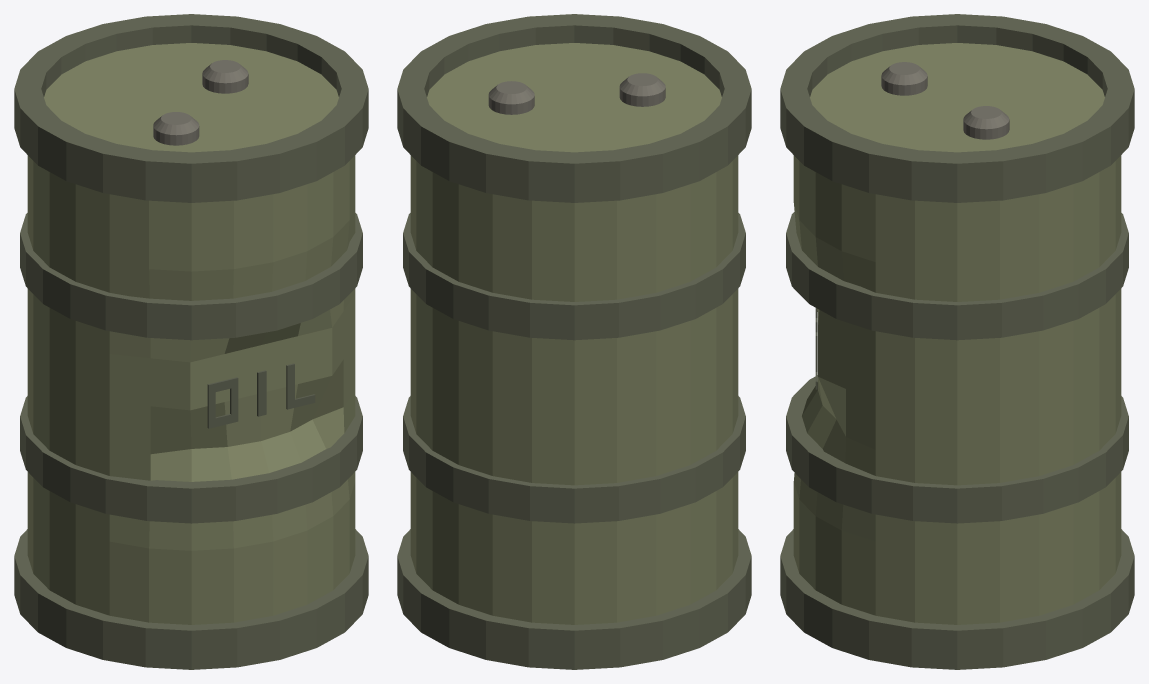
File: oil_drum.glb
3 renders of one model, left to right at view 1: azimuth 30°, elevation 25°; view 2: azimuth 150°, elevation 25°; view 3: azimuth 270°, elevation 25°, orthographic.
Visible parts, largest first — view 1: OilBody, OilTopRim, OilBottomRim, OilBellyBand_0, OilBellyBand_1, OilBung_0, OilBung_1; view 2: OilBody, OilTopRim, OilBottomRim, OilBellyBand_0, OilBellyBand_1, OilBung_1, OilBung_0; view 3: OilBody, OilTopRim, OilBottomRim, OilBellyBand_0, OilBellyBand_1, OilBung_0, OilBung_1.
Boxes of the visible parts, x1,y1,x2,y2 form: OilBody: (27, 43, 355, 624); OilTopRim: (14, 14, 368, 202); OilBottomRim: (14, 529, 368, 669); OilBellyBand_0: (20, 396, 362, 523); OilBellyBand_1: (20, 213, 362, 340); OilBung_0: (202, 60, 248, 93); OilBung_1: (153, 112, 199, 145); OilBody: (410, 43, 738, 624); OilTopRim: (397, 14, 751, 202); OilBottomRim: (397, 529, 751, 669); OilBellyBand_0: (403, 396, 745, 523); OilBellyBand_1: (403, 213, 745, 340); OilBung_1: (619, 73, 665, 106); OilBung_0: (488, 81, 534, 114); OilBody: (793, 43, 1121, 624); OilTopRim: (780, 14, 1134, 202); OilBottomRim: (780, 529, 1134, 669); OilBellyBand_0: (786, 375, 1128, 523); OilBellyBand_1: (786, 212, 1128, 340); OilBung_0: (963, 106, 1009, 139); OilBung_1: (881, 62, 927, 95).
Bounding box in the file's own units: 0.368 × 0.58 × 0.368.
